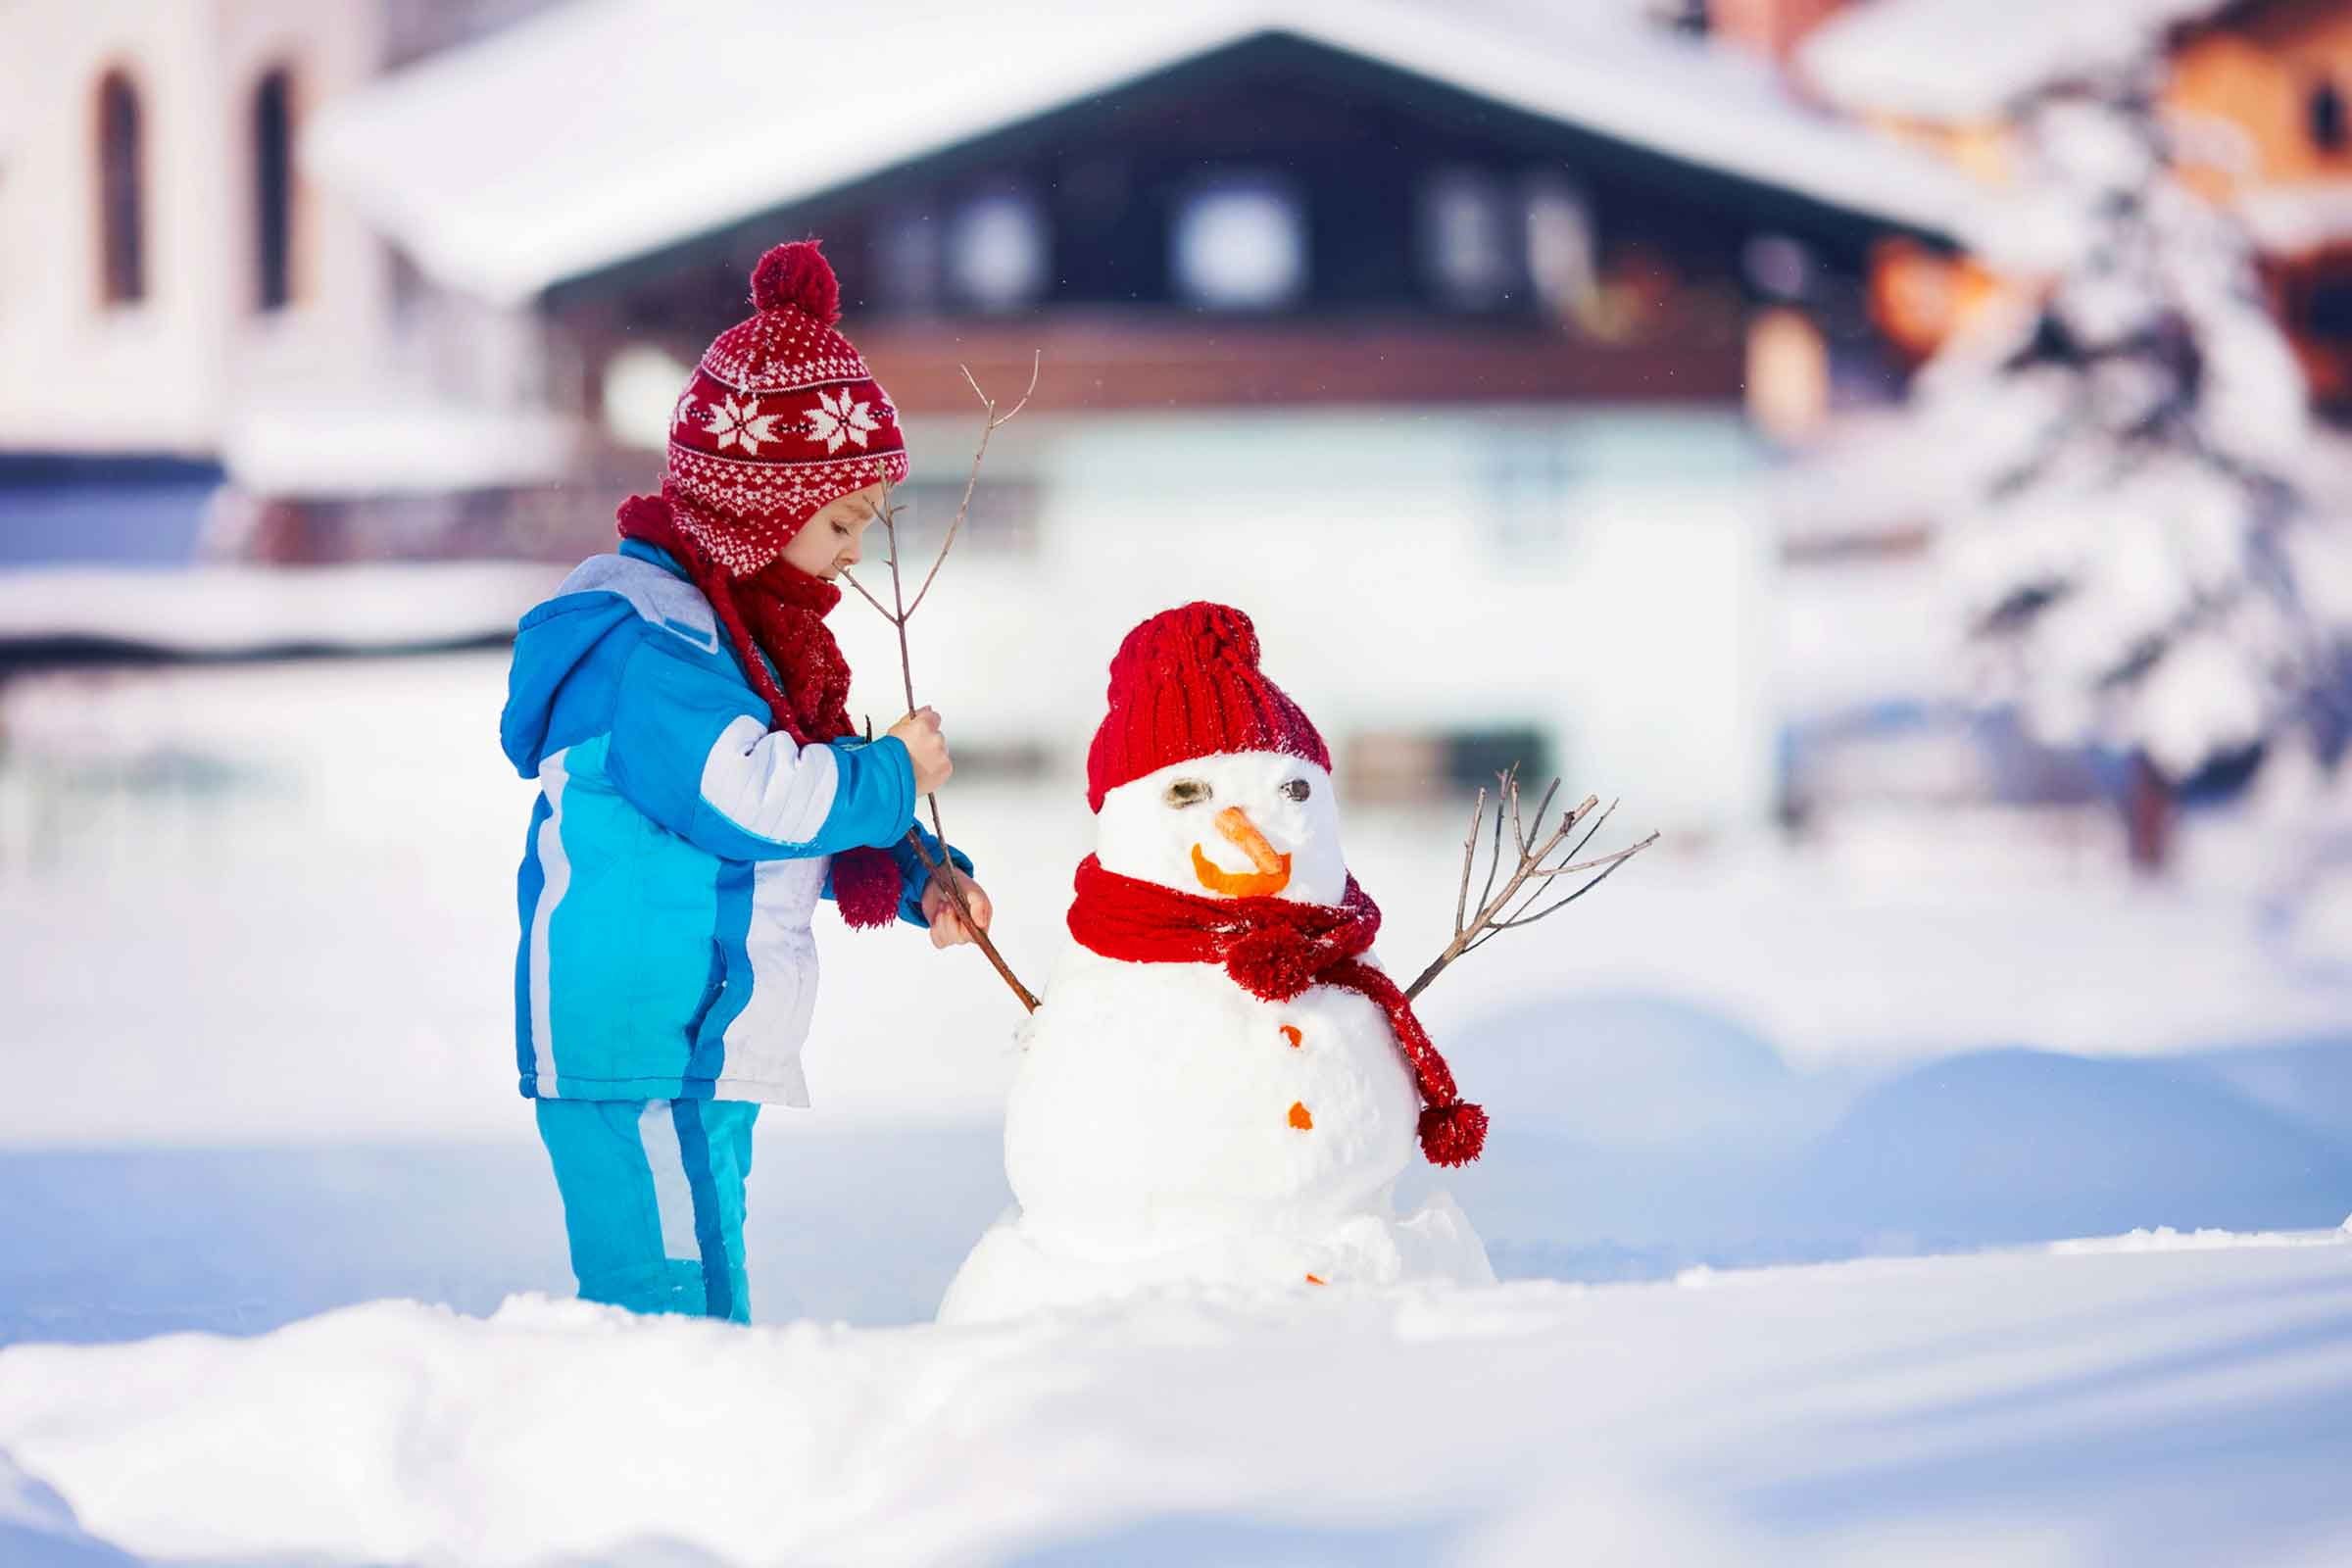person: (477, 228, 997, 1334)
person-like: (915, 588, 1564, 1322)
